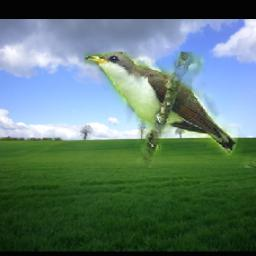Cuckoo: (86, 52, 256, 168)
